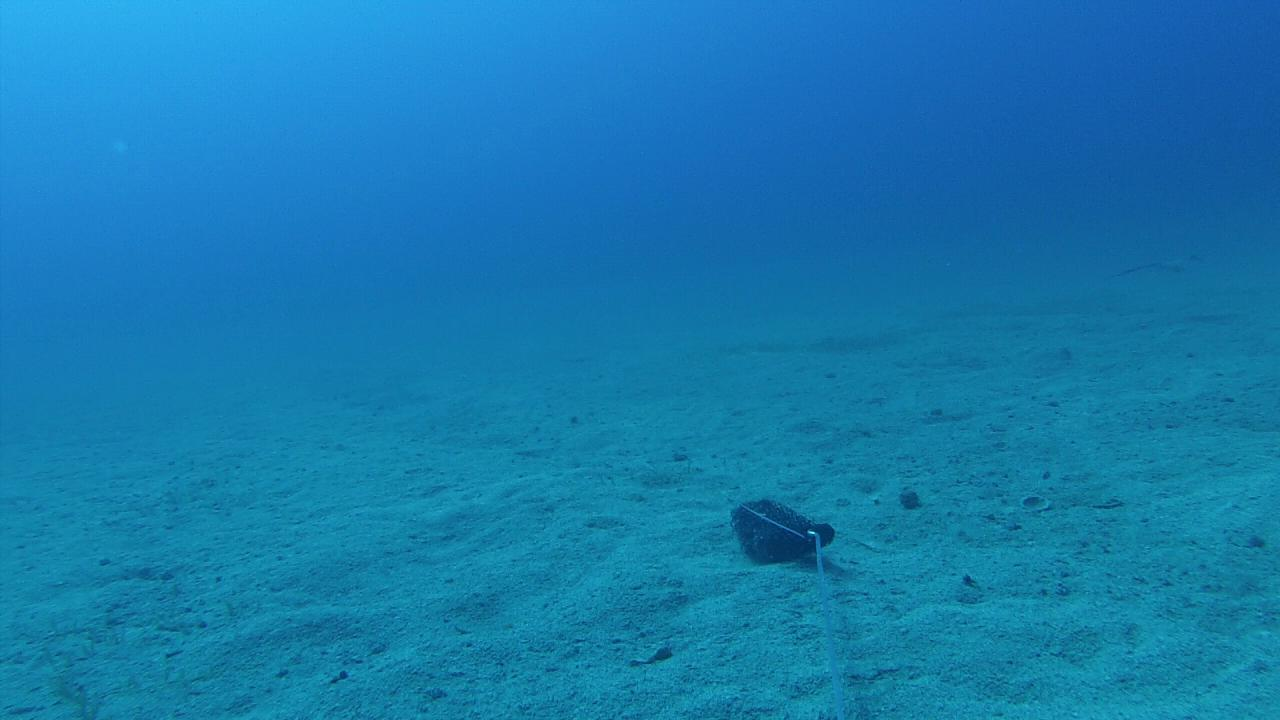dasyatis: (1118, 250, 1199, 278)
